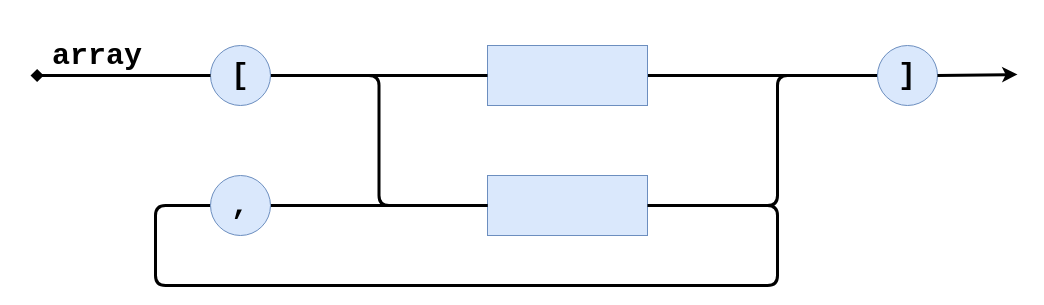
Some shapes in this 1044 by 305 pixel diagram are drawn without their labels. Here are the shapes that lost their labels. From the top down, the box of each, then its label:
(486, 44, 648, 106): whitespace
(486, 174, 648, 236): value
